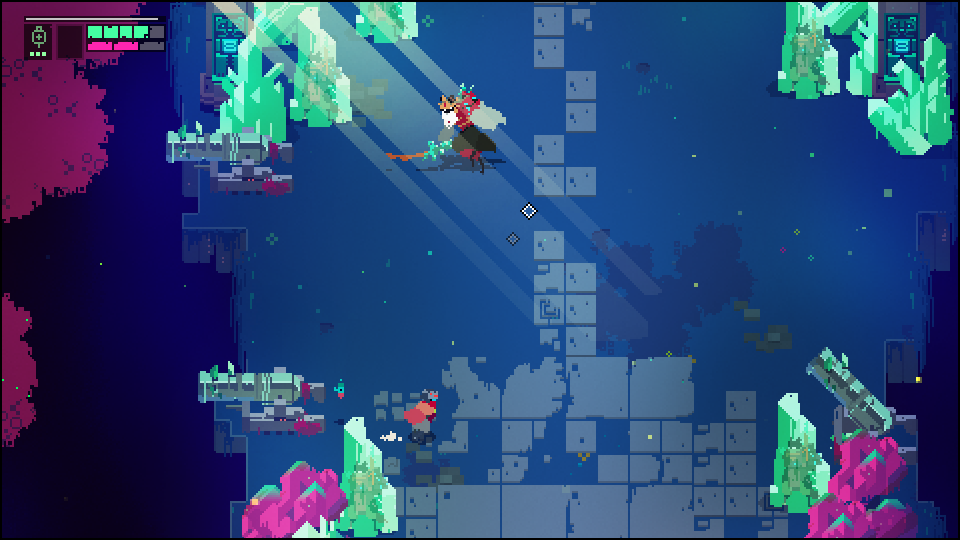hanged_man: (411, 81, 512, 176)
player: (404, 389, 440, 443)
